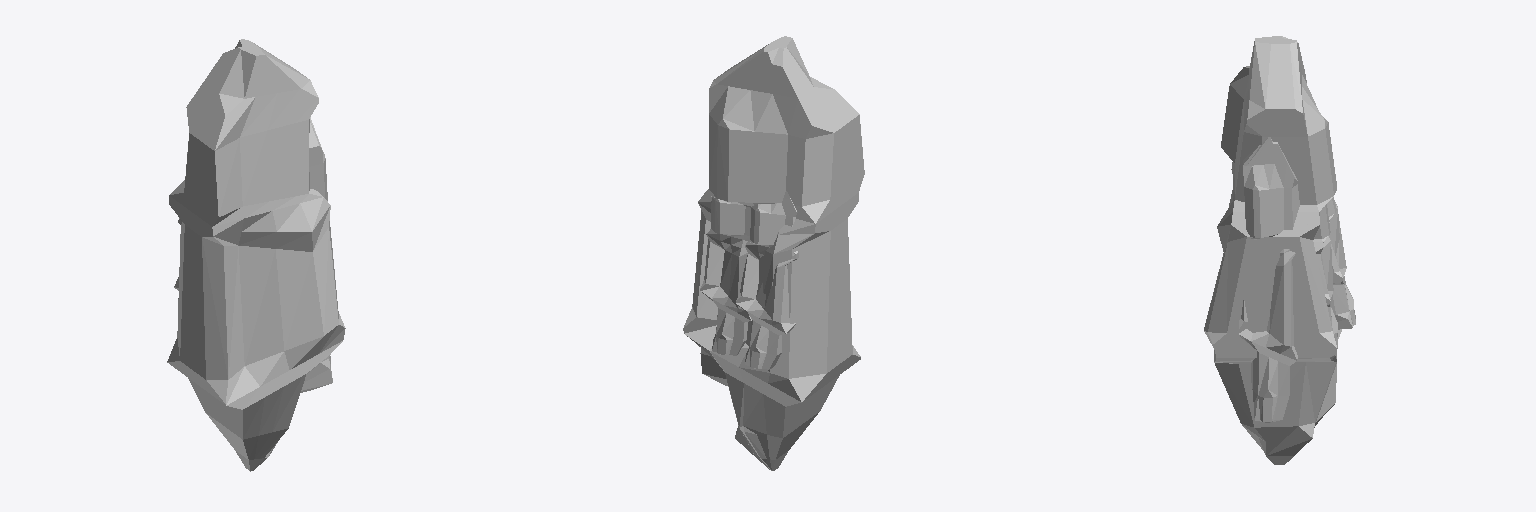
Rendered from KyberKrystal.obj.
3 renders of one model, left to right at view 1: azimuth 30°, elevation 25°; view 2: azimuth 150°, elevation 25°; view 3: azimuth 270°, elevation 25°, orthographic.
Parts seen in each view (by area): view 1: Cube_Cube.001; view 2: Cube_Cube.001; view 3: Cube_Cube.001.
Part boxes in pixels (x1,y1,x2,y2): Cube_Cube.001: (167,39,345,471); Cube_Cube.001: (683,36,864,470); Cube_Cube.001: (1204,36,1355,464).
Size of the model in its own units: 0.3768 by 1.13 by 0.3699.